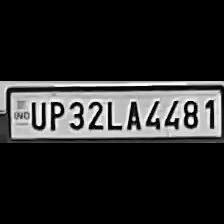1: (202, 96, 218, 130)
2: (84, 96, 104, 130)
3: (64, 96, 84, 130)
4: (142, 96, 162, 130), (160, 96, 180, 130)
8: (179, 96, 199, 130)
A: (122, 96, 142, 130)
L: (102, 96, 122, 130)
P: (44, 98, 64, 132)
U: (27, 98, 46, 130)
